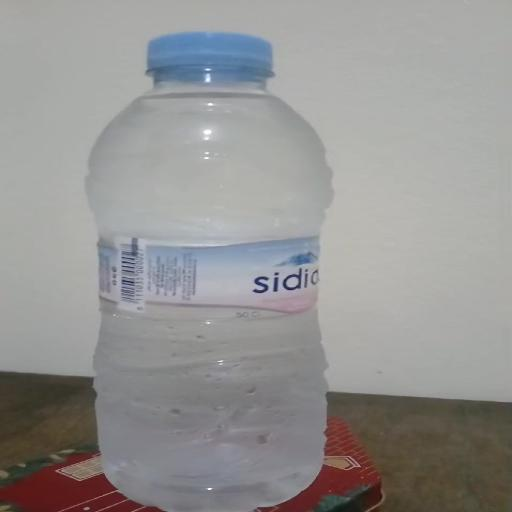bouteille conformite: (86, 31, 332, 511)
